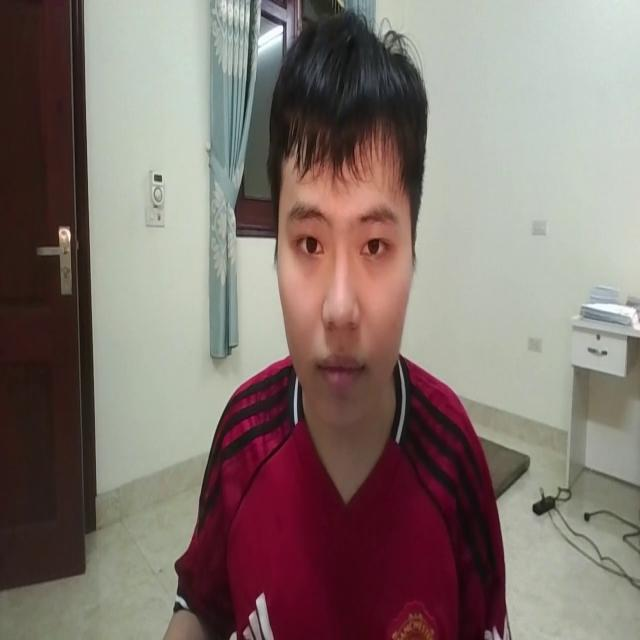student: (153, 10, 508, 640)
